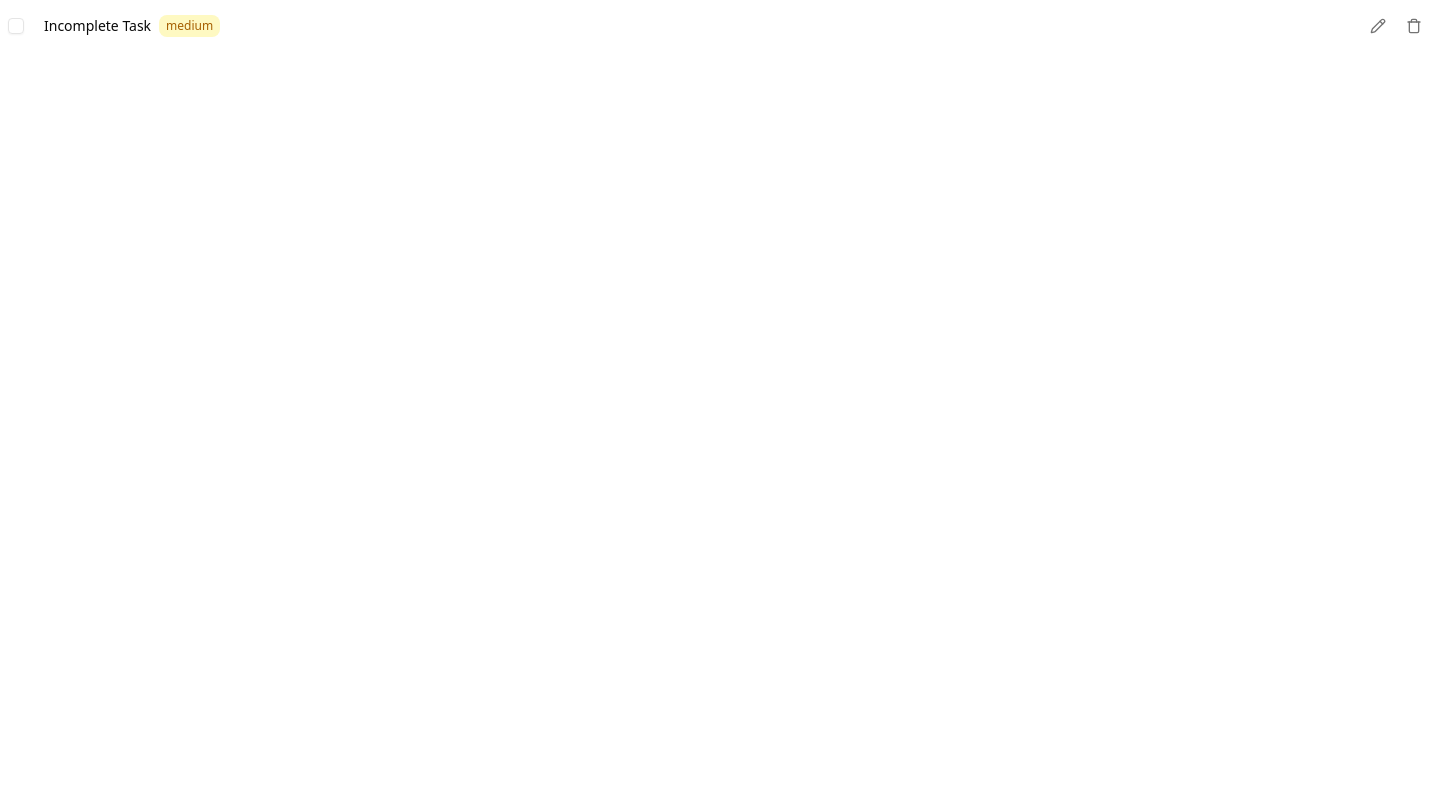
TodoItem Component › Editing Mode › should switch to edit mode when the edit button is clicked
Step 1. Click the button named "edit todo" → (1378, 26), box [1360,8,1396,44]
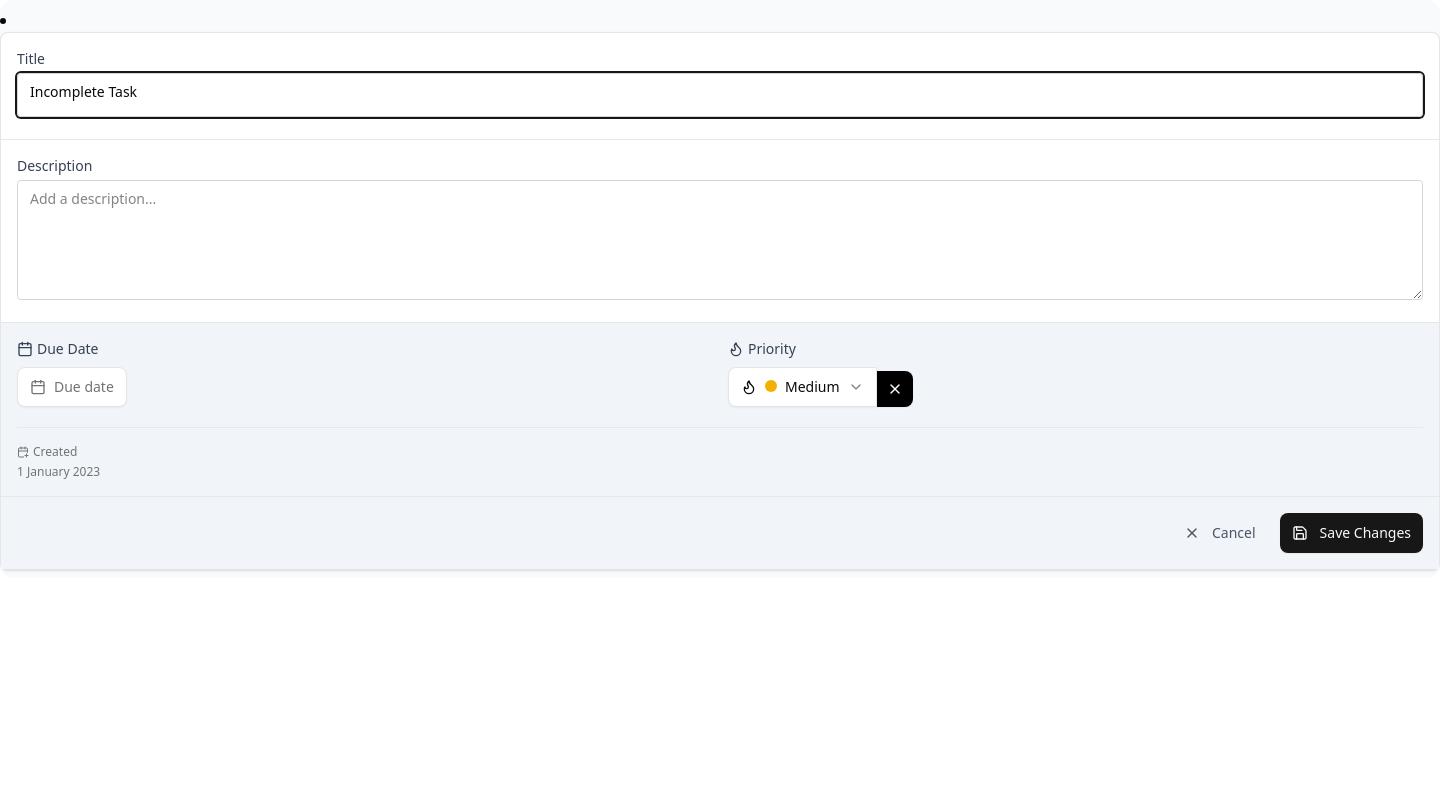
Now the text box named "edit title" is shown, box [17,73,1423,117]
Now the text box named "edit description" is shown, box [17,180,1423,300]
Now the button "Save Changes" is shown, box [1280,513,1423,553]
